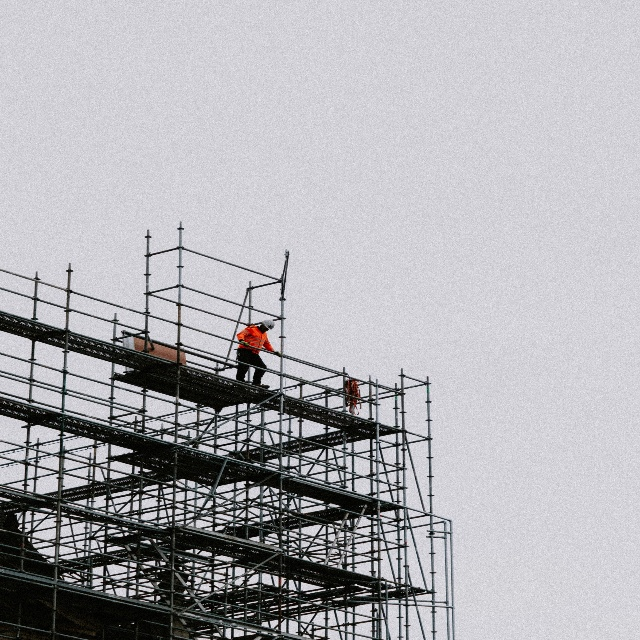Guantes: (241, 341, 249, 347), (274, 350, 281, 356)
